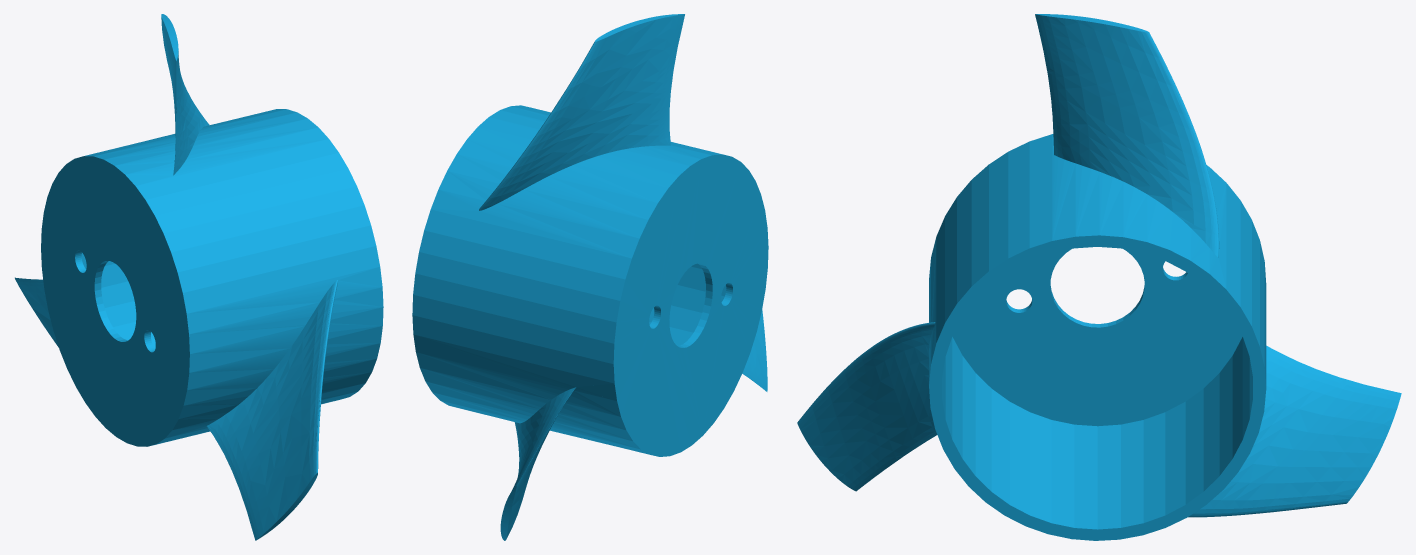
File: T200_propeller.dae
3 views of the same model, side by side, from view 1: azimuth 30°, elevation 25°; view 2: azimuth 150°, elevation 25°; view 3: azimuth 270°, elevation 25° (orthographic). The views are drawn at different scales.
Parts seen in each view (by area): view 1: T200-PROPELLER; view 2: T200-PROPELLER; view 3: T200-PROPELLER.
Boxes of the visible parts, <box> form: T200-PROPELLER: <box>15,14,383,540</box>; T200-PROPELLER: <box>412,14,768,540</box>; T200-PROPELLER: <box>797,14,1401,540</box>.
Size of the model in its own units: 0.03 by 0.0717 by 0.0632.
